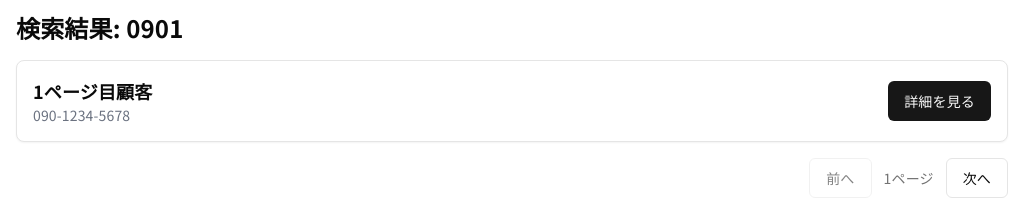
Scenario: SearchContent › returns to the first page when the search query changes
Later steps or results of the test are not shown.
Expected: the heading "1ページ目顧客" is shown, [33,77,152,105]
Click the button "次へ" at (977, 178), box [946,158,1008,198]
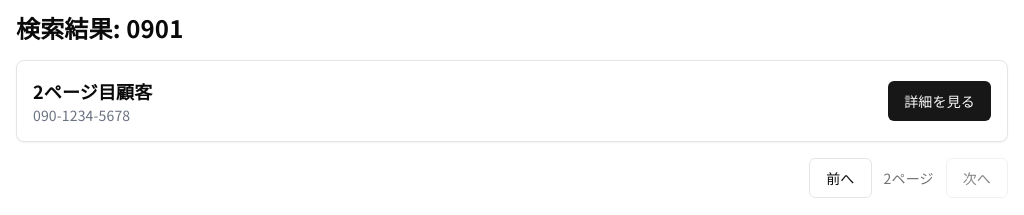
Expected: the heading "2ページ目顧客" is shown, [33,77,152,105]
Expected: the text "2ページ" is shown, [884,168,934,188]
